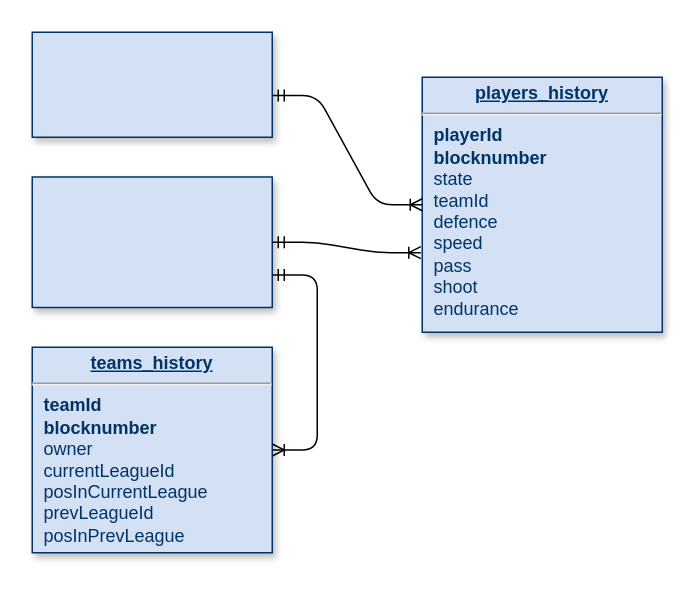
Image size: 698x590. Some labels were removed from this diagram. The centre of each missing label's shape, as x and y in pixels:
"players Id monthOfBirthInUnixTime" goes at (x=153, y=86).
"teams Id name creationTimestamp" goes at (x=153, y=244).
